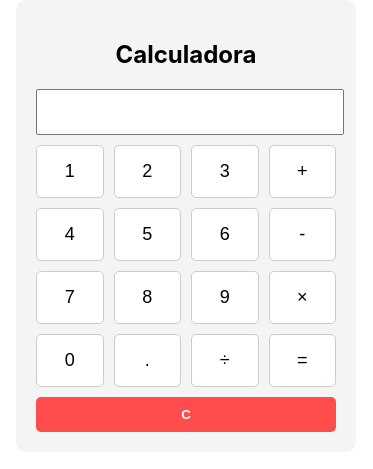
it: Componente Calculadora › realiza resta correctamente
What coordinates should you click on to do the following:
click the button "5"
I would click on:
 (147, 234)
Its box is [114,208,181,261].
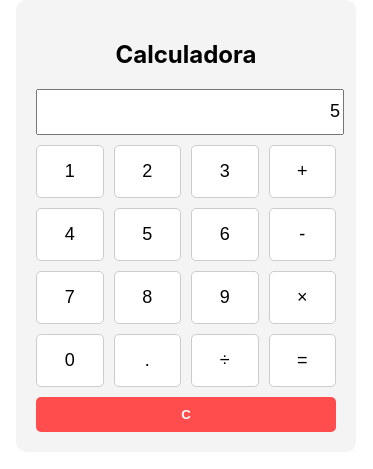
What coordinates should you click on to do the following:
click the button "-"
I would click on:
 (302, 234)
Its box is [268,208,336,261].
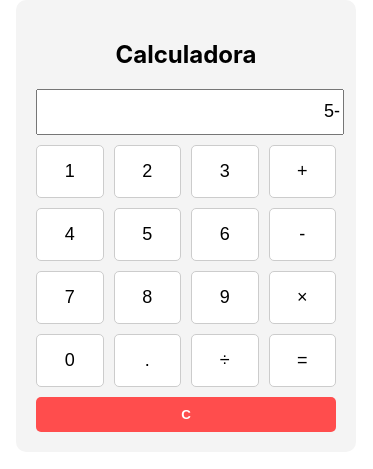
What coordinates should you click on to do the following:
click the button "3"
I would click on:
 (225, 171)
Its box is [191,145,258,198].
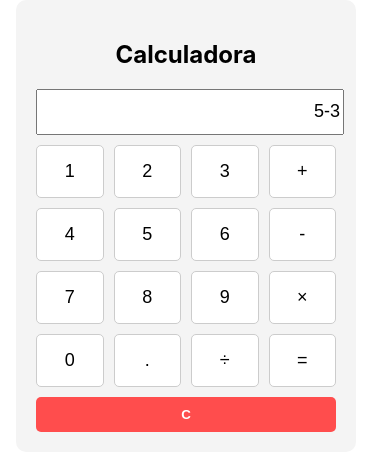
What coordinates should you click on to do the following:
click the button "="
I would click on:
 (302, 360)
Its box is [268,334,336,387].
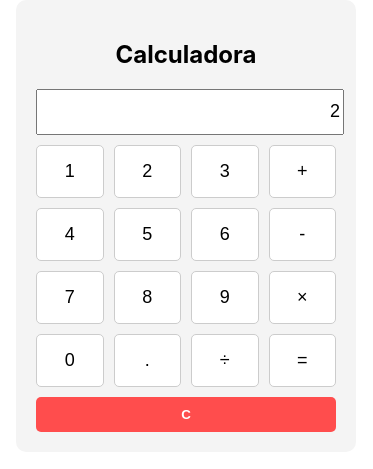
Expected: the field holds "2", [36,89,344,135]
